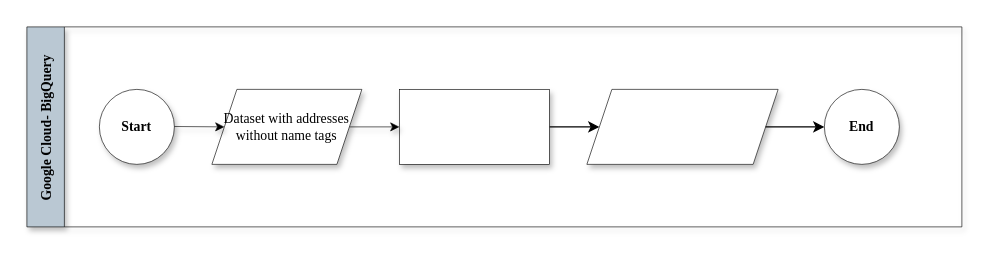
Image size: 991x258. Some labels were removed from this diagram. Here are the shapes that lost their labels. From the top down, the centre of each, then its label:
At pixel 475 128: "Get transactional information of selected addresses".
At pixel 683 128: "Historical transactional dataset of top 10,000 whales".
